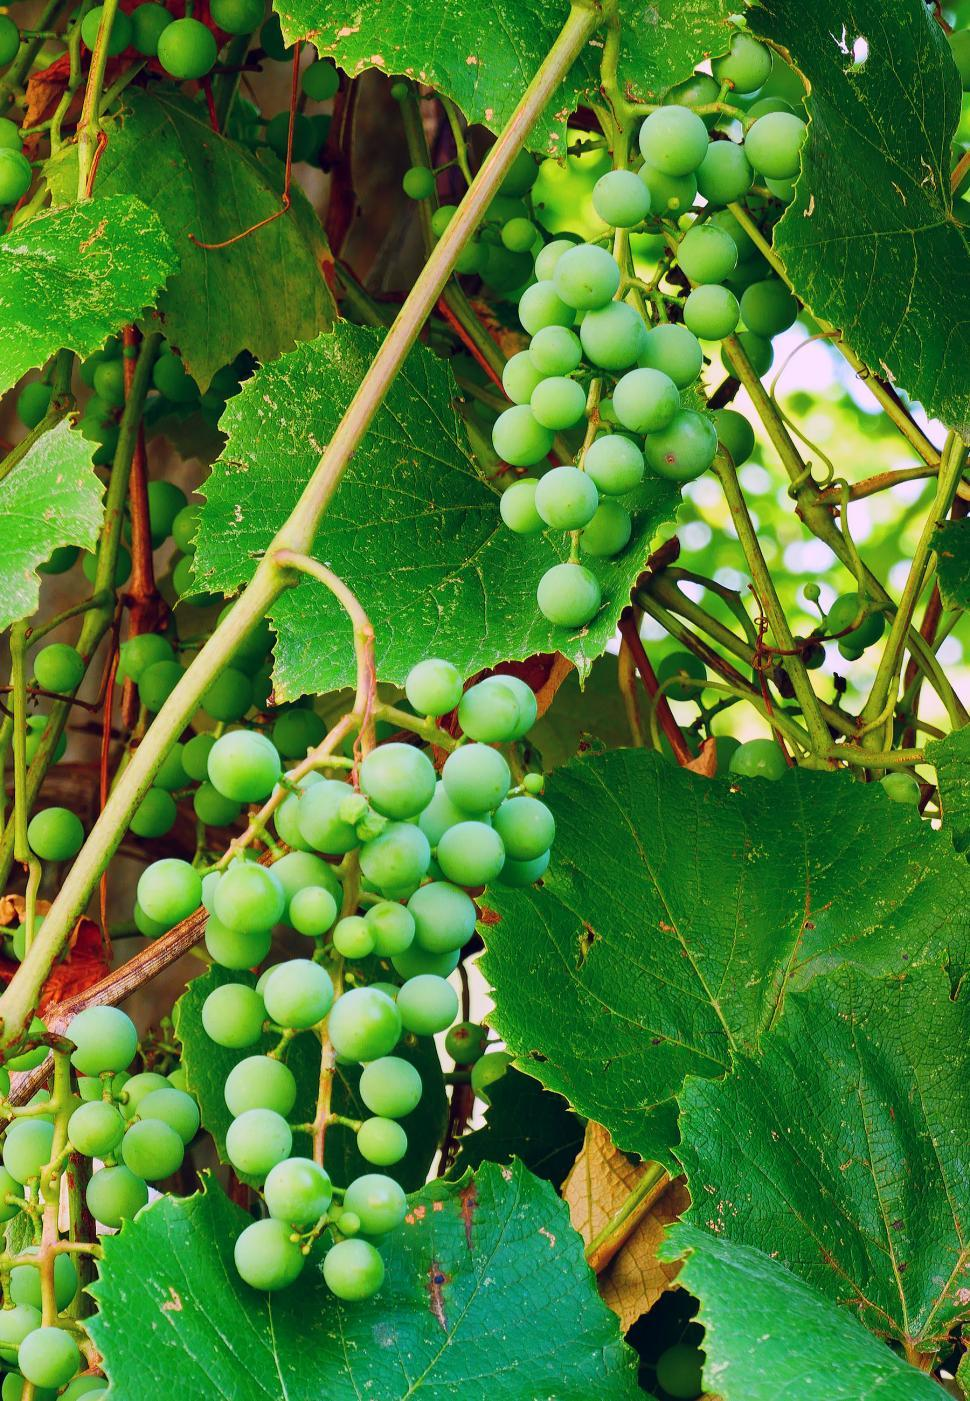grapes: (124, 677, 549, 1317), (486, 105, 790, 670)
